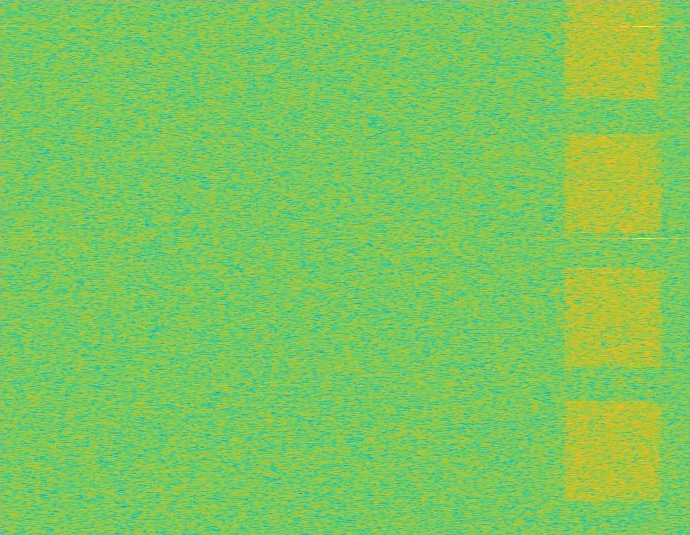5G: (561, 0, 665, 534)
Radar: (637, 0, 651, 534)
